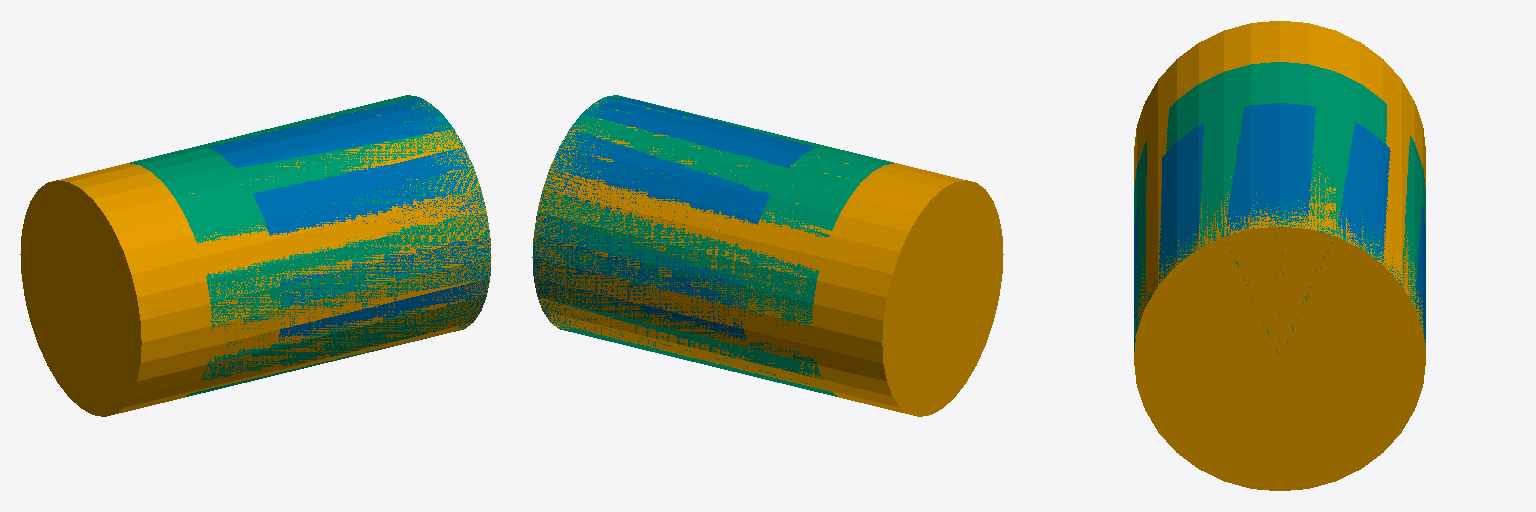
robot.urdf — panda_12dof_allZ:
<?xml version="1.0"?>
<robot name="panda_12dof_allZ" xmlns:xacro="http://www.ros.org/wiki/xacro">

  <!-- Base links 0..7 (Franka Panda) -->
  <link name="panda_link0">
    <visual><geometry><mesh filename="meshes/visual/link0.dae"/></geometry></visual>
    <collision><geometry><mesh filename="meshes/collision/link0.stl"/></geometry></collision>
  </link>

  <link name="panda_link1">
    <inertial><origin rpy="0 0 0" xyz="0 -0.04 -0.05"/><mass value="2.7"/>
      <inertia ixx="0.1" ixy="0" ixz="0" iyy="0.1" iyz="0" izz="0.1"/></inertial>
    <visual><geometry><mesh filename="meshes/visual/link1.dae"/></geometry></visual>
    <collision><geometry><mesh filename="meshes/collision/link1.stl"/></geometry></collision>
  </link>

  <joint name="panda_joint1" type="revolute">
    <origin rpy="0 0 0" xyz="0 0 0.333"/>
    <parent link="panda_link0"/><child link="panda_link1"/>
    <axis xyz="0 0 1"/>
    <limit effort="87" lower="-2.8973" upper="2.8973" velocity="2.1750"/>
  </joint>

  <link name="panda_link2">
    <inertial><origin rpy="0 0 0" xyz="0 -0.04 0.06"/><mass value="2.73"/>
      <inertia ixx="0.1" ixy="0" ixz="0" iyy="0.1" iyz="0" izz="0.1"/></inertial>
    <visual><geometry><mesh filename="meshes/visual/link2.dae"/></geometry></visual>
    <collision><geometry><mesh filename="meshes/collision/link2.stl"/></geometry></collision>
  </link>

  <joint name="panda_joint2" type="revolute">
    <origin rpy="-1.57079632679 0 0" xyz="0 0 0"/>
    <parent link="panda_link1"/><child link="panda_link2"/>
    <axis xyz="0 0 1"/>
    <limit effort="87" lower="-1.7628" upper="1.7628" velocity="2.1750"/>
  </joint>

  <link name="panda_link3">
    <inertial><origin rpy="0 0 0" xyz="0.01 0.01 -0.05"/><mass value="2.04"/>
      <inertia ixx="0.1" ixy="0" ixz="0" iyy="0.1" iyz="0" izz="0.1"/></inertial>
    <visual><geometry><mesh filename="meshes/visual/link3.dae"/></geometry></visual>
    <collision><geometry><mesh filename="meshes/collision/link3.stl"/></geometry></collision>
  </link>

  <joint name="panda_joint3" type="revolute">
    <origin rpy="1.57079632679 0 0" xyz="0 -0.316 0"/>
    <parent link="panda_link2"/><child link="panda_link3"/>
    <axis xyz="0 0 1"/>
    <limit effort="87" lower="-2.8973" upper="2.8973" velocity="2.1750"/>
  </joint>

  <link name="panda_link4">
    <inertial><origin rpy="0 0 0" xyz="-0.03 0.03 0.02"/><mass value="2.08"/>
      <inertia ixx="0.1" ixy="0" ixz="0" iyy="0.1" iyz="0" izz="0.1"/></inertial>
    <visual><geometry><mesh filename="meshes/visual/link4.dae"/></geometry></visual>
    <collision><geometry><mesh filename="meshes/collision/link4.stl"/></geometry></collision>
  </link>

  <joint name="panda_joint4" type="revolute">
    <origin rpy="1.57079632679 0 0" xyz="0.0825 0 0"/>
    <parent link="panda_link3"/><child link="panda_link4"/>
    <axis xyz="0 0 1"/>
    <limit effort="87" lower="-3.0718" upper="-0.0698" velocity="2.1750"/>
  </joint>

  <link name="panda_link5">
    <inertial><origin rpy="0 0 0" xyz="0 0.04 -0.12"/><mass value="3"/>
      <inertia ixx="0.1" ixy="0" ixz="0" iyy="0.1" iyz="0" izz="0.1"/></inertial>
    <visual><geometry><mesh filename="meshes/visual/link5.dae"/></geometry></visual>
    <collision><geometry><mesh filename="meshes/collision/link5.stl"/></geometry></collision>
  </link>

  <joint name="panda_joint5" type="revolute">
    <origin rpy="-1.57079632679 0 0" xyz="-0.0825 0.384 0"/>
    <parent link="panda_link4"/><child link="panda_link5"/>
    <axis xyz="0 0 1"/>
    <limit effort="12" lower="-2.8975" upper="2.8975" velocity="2.6100"/>
  </joint>

  <link name="panda_link6">
    <inertial><origin rpy="0 0 0" xyz="0.04 0 0"/><mass value="1.3"/>
      <inertia ixx="0.1" ixy="0" ixz="0" iyy="0.1" iyz="0" izz="0.1"/></inertial>
    <visual><geometry><mesh filename="meshes/visual/link6.dae"/></geometry></visual>
    <collision><geometry><mesh filename="meshes/collision/link6.stl"/></geometry></collision>
  </link>

  <joint name="panda_joint6" type="revolute">
    <origin rpy="1.57079632679 0 0" xyz="0 0 0"/>
    <parent link="panda_link5"/><child link="panda_link6"/>
    <axis xyz="0 0 1"/>
    <limit effort="12" lower="-0.0175" upper="3.7525" velocity="2.6100"/>
  </joint>

  <link name="panda_link7">
    <inertial><origin rpy="0 0 0" xyz="0 0 0.08"/><mass value="0.2"/>
      <inertia ixx="0.1" ixy="0" ixz="0" iyy="0.1" iyz="0" izz="0.1"/></inertial>
    <visual><geometry><mesh filename="meshes/visual/link7.dae"/></geometry></visual>
    <collision><geometry><mesh filename="meshes/collision/link7.stl"/></geometry></collision>
  </link>

  <joint name="panda_joint7" type="revolute">
    <origin rpy="1.57079632679 0 0" xyz="0.088 0 0"/>
    <parent link="panda_link6"/><child link="panda_link7"/>
    <axis xyz="0 0 1"/>
    <limit effort="12" lower="-2.8973" upper="2.8973" velocity="2.6100"/>
  </joint>

  <!-- 12-DoF extension: 5 additional Z-axis joints -->
  <joint name="panda_joint8" type="revolute">
    <origin rpy="0 0 0" xyz="0 0 0"/>
    <parent link="panda_link7"/><child link="panda_link7_ext1"/>
    <axis xyz="0 0 1"/>
    <limit effort="20.0" lower="-3.1416" upper="3.1416" velocity="2.4"/>
  </joint>
  <link name="panda_link7_ext1">
    <inertial><origin rpy="0 0 0" xyz="0 0 0.050"/><mass value="0.35"/>
      <inertia ixx="0.000037" ixy="0" ixz="0" iyy="0.000037" iyz="0" izz="0.000037"/></inertial>
    <visual><origin rpy="0 0 0" xyz="0 0 0.050"/><geometry><cylinder length="0.100" radius="0.030"/></geometry></visual>
    <collision><origin rpy="0 0 0" xyz="0 0 0.050"/><geometry><cylinder length="0.100" radius="0.030"/></geometry></collision>
  </link>

  <joint name="panda_joint9" type="revolute">
    <origin rpy="0 0 0" xyz="0 0 0"/>
    <parent link="panda_link7_ext1"/><child link="panda_link7_ext2"/>
    <axis xyz="0 0 1"/>
    <limit effort="20.0" lower="-3.1416" upper="3.1416" velocity="2.4"/>
  </joint>
  <link name="panda_link7_ext2">
    <inertial><origin rpy="0 0 0" xyz="0 0 0.050"/><mass value="0.35"/>
      <inertia ixx="0.000037" ixy="0" ixz="0" iyy="0.000037" iyz="0" izz="0.000037"/></inertial>
    <visual><origin rpy="0 0 0" xyz="0 0 0.050"/><geometry><cylinder length="0.100" radius="0.030"/></geometry></visual>
    <collision><origin rpy="0 0 0" xyz="0 0 0.050"/><geometry><cylinder length="0.100" radius="0.030"/></geometry></collision>
  </link>

  <joint name="panda_joint10" type="revolute">
    <origin rpy="0 0 0" xyz="0 0 0"/>
    <parent link="panda_link7_ext2"/><child link="panda_link7_ext3"/>
    <axis xyz="0 0 1"/>
    <limit effort="20.0" lower="-3.1416" upper="3.1416" velocity="2.4"/>
  </joint>
  <link name="panda_link7_ext3">
    <inertial><origin rpy="0 0 0" xyz="0 0 0.040"/><mass value="0.30"/>
      <inertia ixx="0.000023" ixy="0" ixz="0" iyy="0.000023" iyz="0" izz="0.000023"/></inertial>
    <visual><origin rpy="0 0 0" xyz="0 0 0.040"/><geometry><cylinder length="0.080" radius="0.030"/></geometry></visual>
    <collision><origin rpy="0 0 0" xyz="0 0 0.040"/><geometry><cylinder length="0.080" radius="0.030"/></geometry></collision>
  </link>

  <joint name="panda_joint11" type="revolute">
    <origin rpy="0 0 0" xyz="0 0 0"/>
    <parent link="panda_link7_ext3"/><child link="panda_link7_ext4"/>
    <axis xyz="0 0 1"/>
    <limit effort="20.0" lower="-3.1416" upper="3.1416" velocity="2.4"/>
  </joint>
  <link name="panda_link7_ext4">
    <inertial><origin rpy="0 0 0" xyz="0 0 0.040"/><mass value="0.30"/>
      <inertia ixx="0.000023" ixy="0" ixz="0" iyy="0.000023" iyz="0" izz="0.000023"/></inertial>
    <visual><origin rpy="0 0 0" xyz="0 0 0.040"/><geometry><cylinder length="0.080" radius="0.030"/></geometry></visual>
    <collision><origin rpy="0 0 0" xyz="0 0 0.040"/><geometry><cylinder length="0.080" radius="0.030"/></geometry></collision>
  </link>

  <joint name="panda_joint12" type="revolute">
    <origin rpy="0 0 0" xyz="0 0 0"/>
    <parent link="panda_link7_ext4"/><child link="panda_link7_ext5"/>
    <axis xyz="0 0 1"/>
    <limit effort="20.0" lower="-3.1416" upper="3.1416" velocity="2.4"/>
  </joint>
  <link name="panda_link7_ext5">
    <inertial><origin rpy="0 0 0" xyz="0 0 0.030"/><mass value="0.25"/>
      <inertia ixx="0.000013" ixy="0" ixz="0" iyy="0.000013" iyz="0" izz="0.000013"/></inertial>
    <visual><origin rpy="0 0 0" xyz="0 0 0.030"/><geometry><cylinder length="0.060" radius="0.030"/></geometry></visual>
    <collision><origin rpy="0 0 0" xyz="0 0 0.030"/><geometry><cylinder length="0.060" radius="0.030"/></geometry></collision>
  </link>

  <!-- Keep original flange pose: back-offset -->
  <link name="panda_link8">
    <inertial><origin rpy="0 0 0" xyz="0 0 0"/><mass value="0.0"/>
      <inertia ixx="0.1" ixy="0" ixz="0" iyy="0.1" iyz="0" izz="0.1"/></inertial>
  </link>
  <joint name="panda_joint12_fixed" type="fixed">
    <origin rpy="0 0 0" xyz="0 0 -0.313"/>
    <parent link="panda_link7_ext5"/><child link="panda_link8"/>
  </joint>

  <joint name="panda_hand_joint" type="fixed">
    <origin rpy="0 0 -0.785398163397" xyz="0 0 0"/>
    <parent link="panda_link8"/><child link="panda_hand"/>
  </joint>
  <link name="panda_hand">
    <inertial><origin rpy="0 0 0" xyz="0 0 0.04"/><mass value="0.81"/>
      <inertia ixx="0.1" ixy="0" ixz="0.1" iyy="0.1" iyz="0" izz="0.1"/></inertial>
    <visual><geometry><mesh filename="meshes/visual/hand.dae"/></geometry></visual>
    <collision><geometry><mesh filename="meshes/collision/hand.stl"/></geometry></collision>
  </link>

  <joint name="panda_finger_joint1" type="fixed">
    <origin rpy="0 0 0" xyz="0 0.04 0.0584"/>
    <parent link="panda_hand"/><child link="panda_leftfinger"/>
  </joint>
  <joint name="panda_finger_joint2" type="fixed">
    <origin rpy="0 0 0" xyz="0 -0.04 0.0584"/>
    <parent link="panda_hand"/><child link="panda_rightfinger"/>
  </joint>

  <link name="panda_leftfinger"/>
  <link name="panda_rightfinger"/>

</robot>

--- What the picture shows (computed from the rendered views, not written in the file) ---
The picture shows the robot from 3 angles, left to right: view 1: azimuth 30°, elevation 25°; view 2: azimuth 150°, elevation 25°; view 3: azimuth 270°, elevation 25°; orthographic projection.
Robot: panda_12dof_allZ — 17 links, 16 joints (12 revolute, 4 fixed); root link panda_link0; default pose: all joints at 0 but 1 set to mid-range because 0 is outside their limits (panda_joint4 = -1.57).
Visible links, largest first — view 1: panda_link7_ext1, panda_link7_ext3, panda_link7_ext5; view 2: panda_link7_ext1, panda_link7_ext3, panda_link7_ext5; view 3: panda_link7_ext1, panda_link7_ext3, panda_link7_ext5.
Boxes of the visible links, x1=… form: panda_link7_ext1: x1=20, y1=95, x2=491, y2=416; panda_link7_ext3: x1=130, y1=95, x2=490, y2=396; panda_link7_ext5: x1=207, y1=95, x2=490, y2=341; panda_link7_ext1: x1=533, y1=99, x2=1003, y2=416; panda_link7_ext3: x1=532, y1=95, x2=893, y2=396; panda_link7_ext5: x1=533, y1=96, x2=816, y2=339; panda_link7_ext1: x1=1134, y1=21, x2=1425, y2=490; panda_link7_ext3: x1=1134, y1=62, x2=1425, y2=354; panda_link7_ext5: x1=1134, y1=103, x2=1425, y2=342.
Bounding box of the posed robot: 0.1 × 0.06 × 0.06 m (x, y, z).
Meshes: 9 distinct files referenced, 0 mesh visuals loaded (none loaded); not drawn: 9 (reference not matched to a file when rendering).